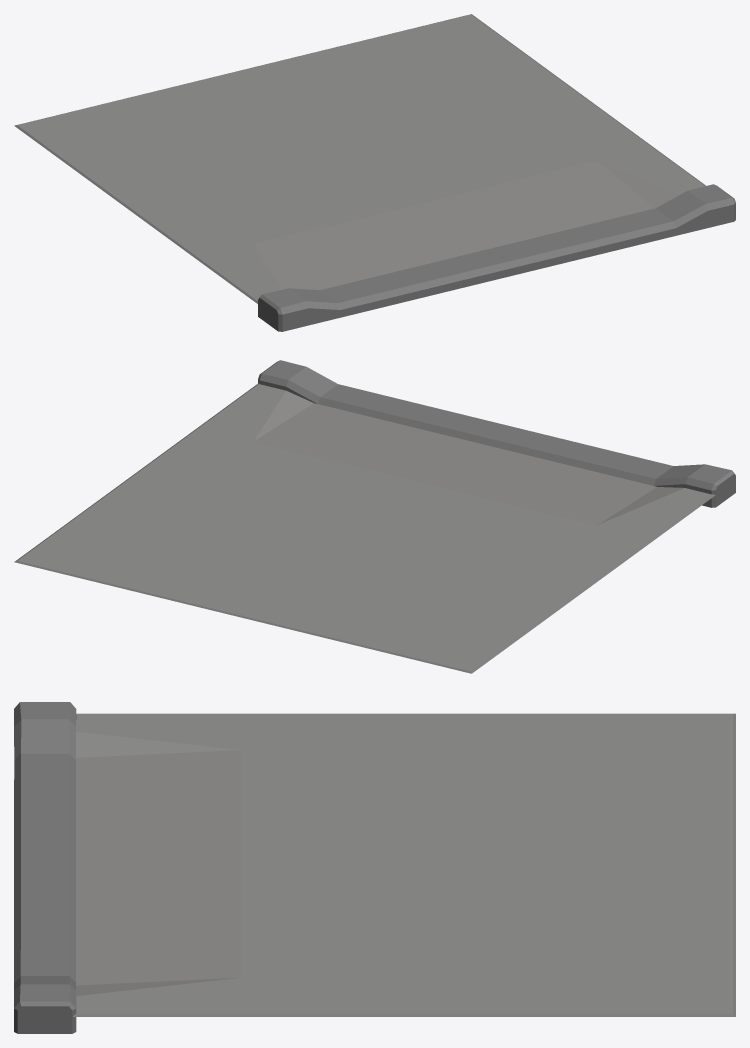
Rendered from SM_Envr_Road_Sidewalk_Driveway.fbx.
3 renders of one model, top to bottom at view 1: azimuth 30°, elevation 25°; view 2: azimuth 150°, elevation 25°; view 3: azimuth 270°, elevation 25°, orthographic. The views are drawn at different scales.
Parts seen in each view (by area): view 1: SM_Envr_Road_Sidewalk_Driveway; view 2: SM_Envr_Road_Sidewalk_Driveway; view 3: SM_Envr_Road_Sidewalk_Driveway.
Boxes of the visible parts, x1=… form: SM_Envr_Road_Sidewalk_Driveway: x1=14, y1=14, x2=735, y2=331; SM_Envr_Road_Sidewalk_Driveway: x1=14, y1=360, x2=735, y2=673; SM_Envr_Road_Sidewalk_Driveway: x1=14, y1=702, x2=735, y2=1033.
Bounding box in the file's own units: 500 × 23.33 × 503.
